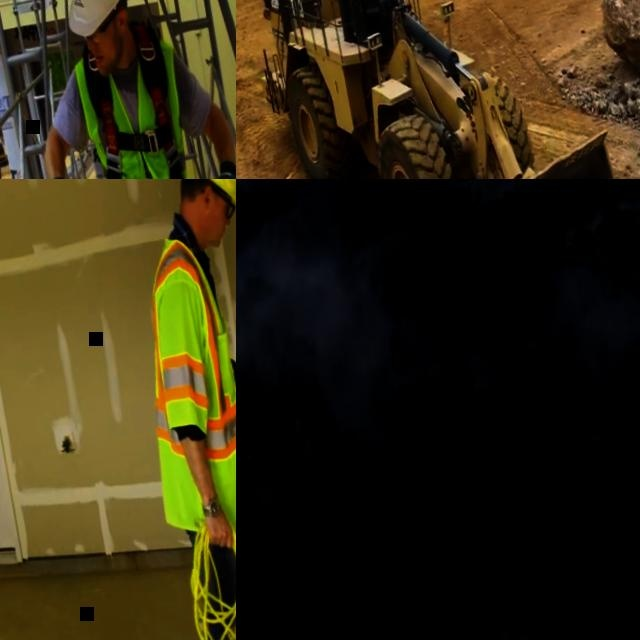Hardhat: (171, 179, 236, 215)
NO-Hardhat: (51, 0, 139, 41)
NO-Mask: (90, 38, 120, 74)
NO-Safety Vest: (70, 39, 208, 179)
Person: (100, 179, 236, 640), (4, 0, 236, 179)
Safety Vest: (119, 229, 236, 496)
machinery: (236, 0, 640, 179)
